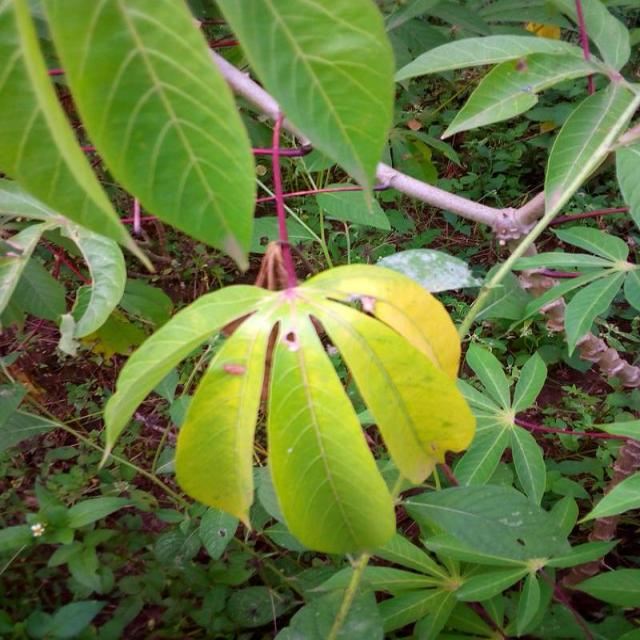cassava leaf: (101, 257, 476, 557), (43, 0, 258, 272), (215, 0, 398, 221), (266, 314, 398, 556)
